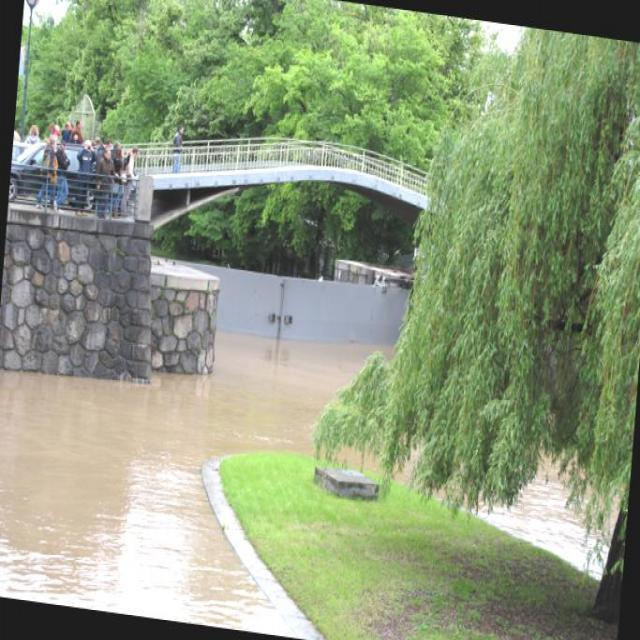flood: (0, 293, 390, 639)
